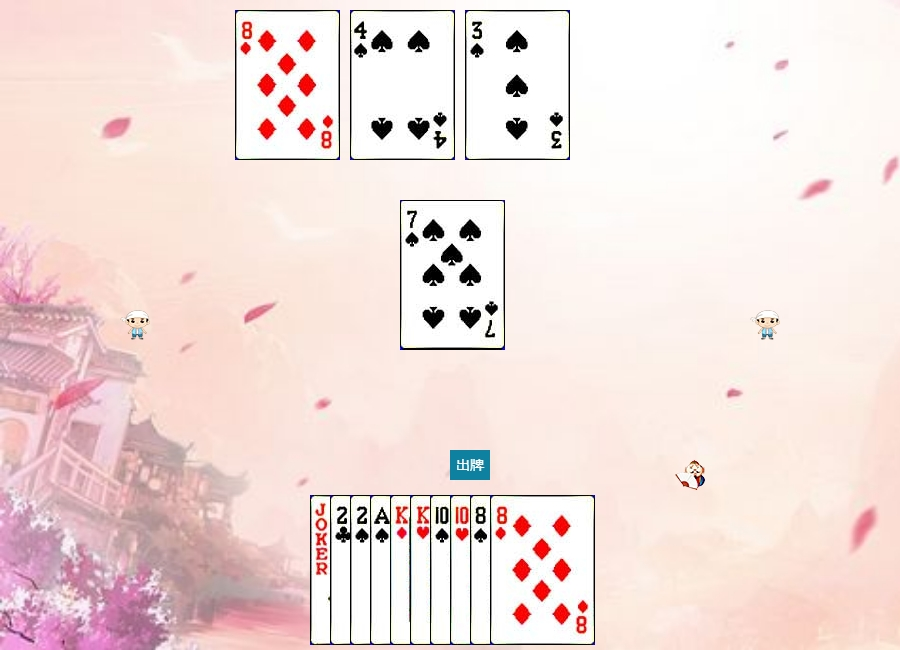10~3: (450, 495, 555, 645)
10~4: (430, 495, 535, 645)
13~1: (390, 495, 495, 645)
13~3: (410, 495, 515, 645)
14~4: (370, 495, 475, 645)
15~2: (330, 495, 435, 645)
15~4: (350, 495, 455, 645)
18~4: (310, 495, 415, 645)
3~4: (465, 10, 570, 160)
4~4: (350, 10, 455, 160)
7~4: (400, 200, 505, 350)
8~1: (235, 10, 340, 160), (490, 495, 595, 645)
8~4: (470, 495, 575, 645)
